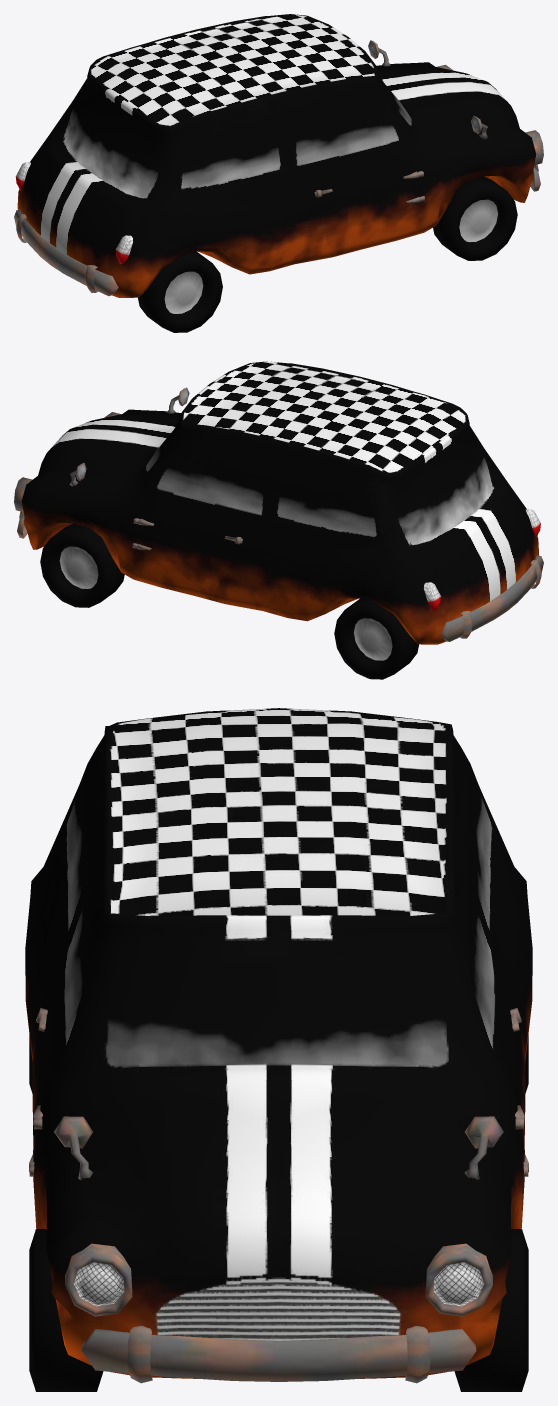
File: carblack.glb
3 views of the same model, one above another, from view 1: azimuth 30°, elevation 25°; view 2: azimuth 150°, elevation 25°; view 3: azimuth 270°, elevation 25° (orthographic). The views are drawn at different scales.
Parts seen in each view (by area): view 1: carblack; view 2: carblack; view 3: carblack.
Part boxes in pixels (box(x1,y1,x2,y2)): carblack: box(14, 14, 543, 332); carblack: box(14, 361, 543, 679); carblack: box(25, 708, 532, 1391).
Bounding box in the file's own units: 8.13 × 3.46 × 3.93.
Materials: 1 (1 with a texture image).
